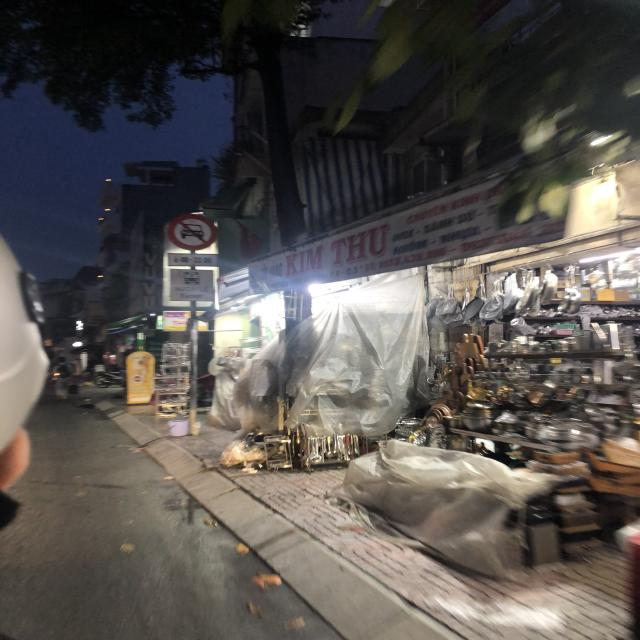Bien bao cam xe oto: (166, 210, 220, 251)
